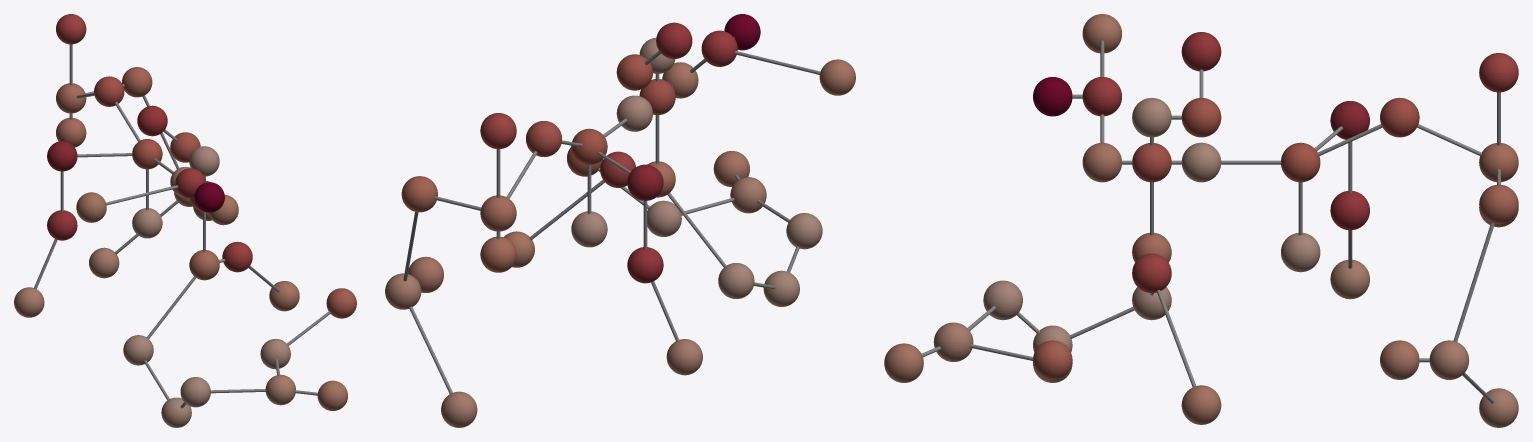
Rendered from Figure_2_similar_2.glb.
3 views of the same model, side by side, from view 1: azimuth 30°, elevation 25°; view 2: azimuth 150°, elevation 25°; view 3: azimuth 270°, elevation 25° (orthographic). The views are drawn at different scales.
Parts seen in each view (by area): view 1: world; view 2: world; view 3: world.
Boxes of the visible parts, bbox=[...] form: world: bbox=[14, 14, 356, 427]; world: bbox=[385, 14, 855, 427]; world: bbox=[884, 14, 1518, 427].
Bounding box in the file's own units: 7.8 × 7.8 × 12.8.
